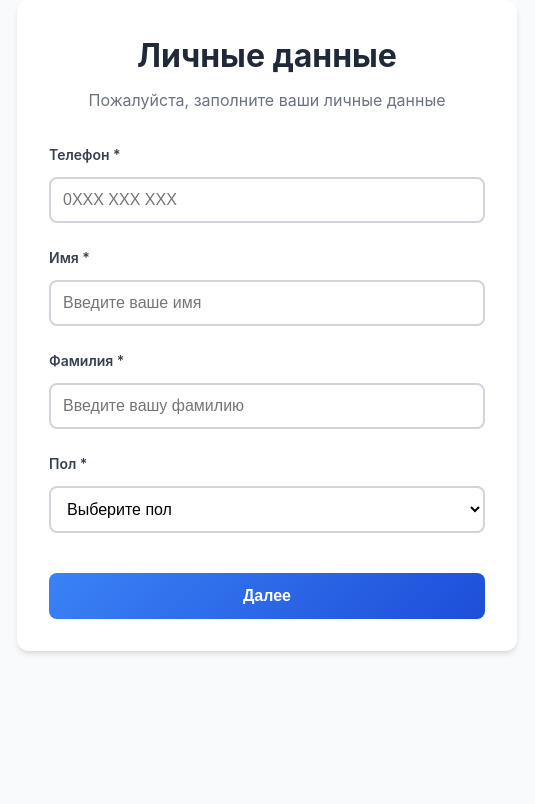
Scenario: PersonalDataForm › должен показывать ошибку при коротком имени
Type "И" into the field labelled "Имя *". click: (267, 303)
box: [49,280,485,326]
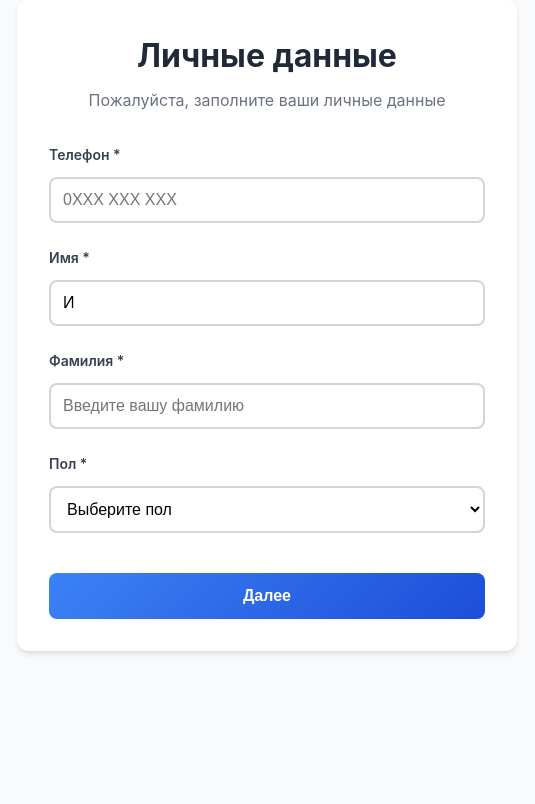
Click the button "Далее". click: (267, 596)
box: [49,573,485,619]
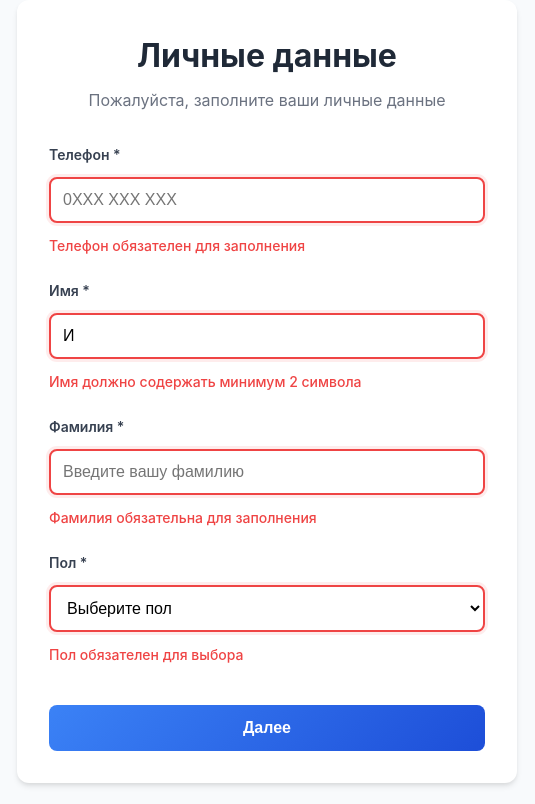
Now the text "Имя должно содержать минимум 2 символа" is shown, box [49,373,362,390]
